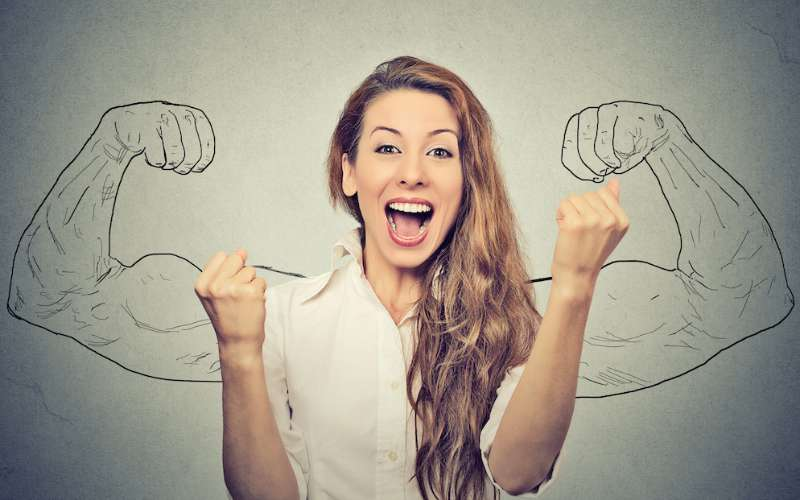human: (197, 52, 631, 500)
